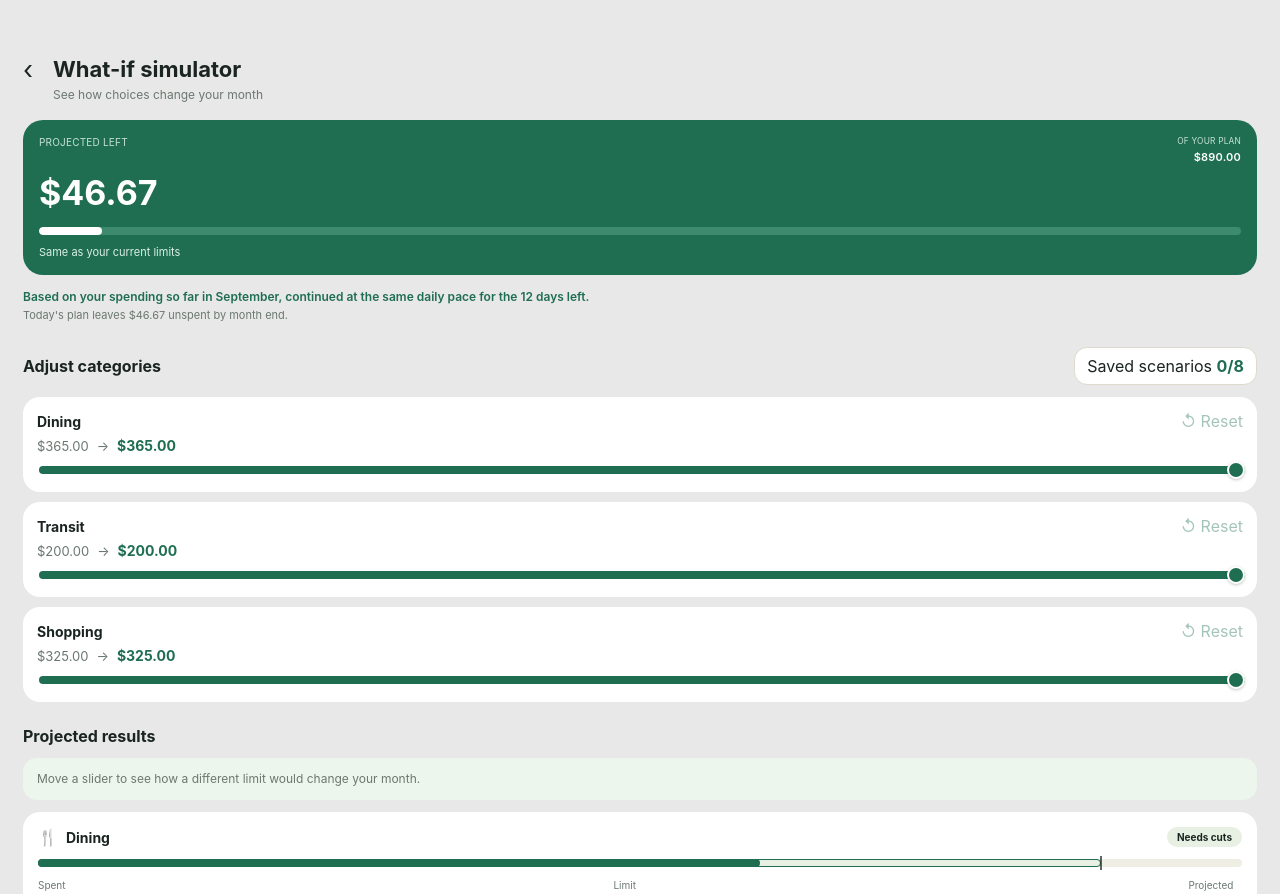
Scenario: What-if simulator › saves, compares and deletes scenarios on the account
The width and height of the screenshot is (1280, 894).
Set the slider named "Dining scenario limit" to "30000" at point(1022, 470), box left=39, top=466, right=1245, bottom=474
(page scrolled)
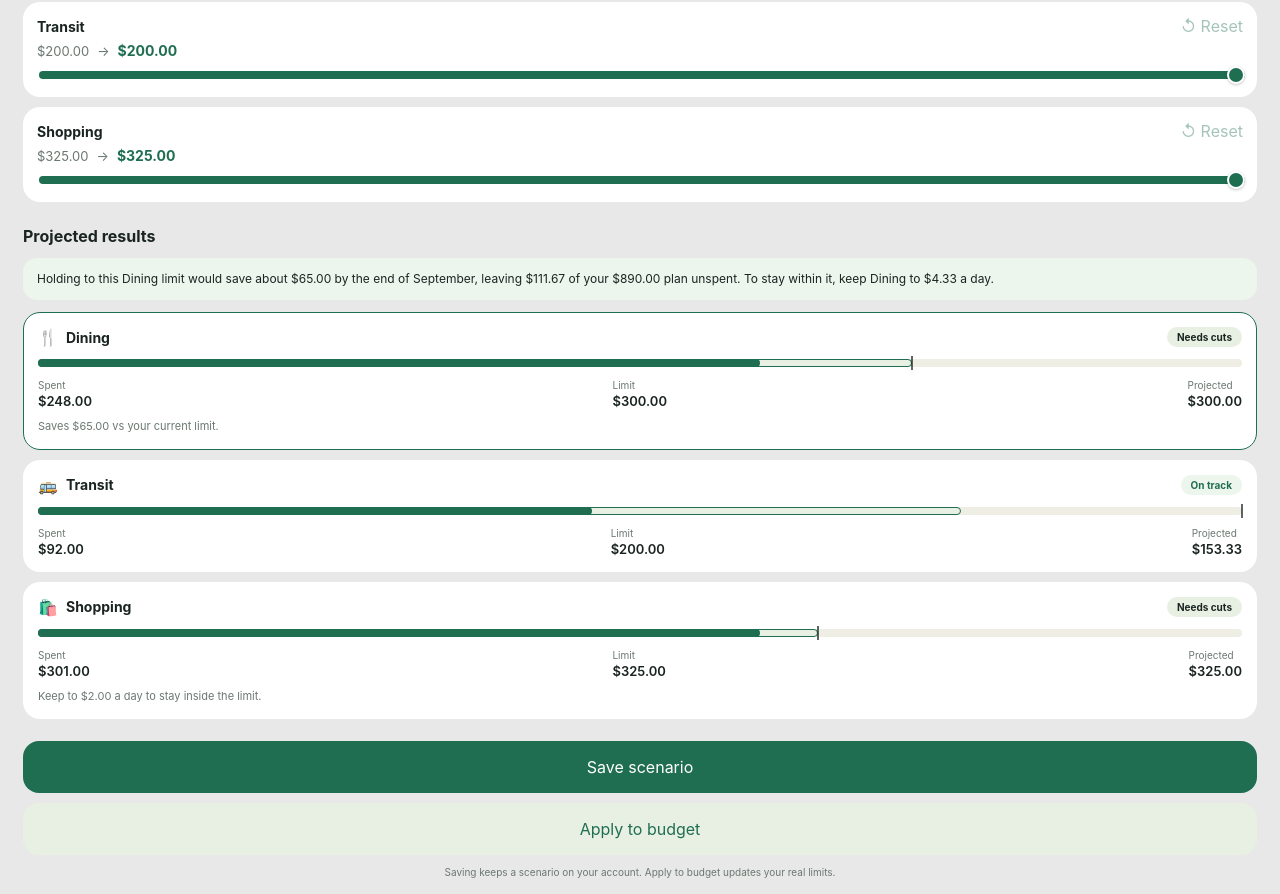
Click the button "Save scenario".
click(640, 767)  # box left=23, top=741, right=1257, bottom=793
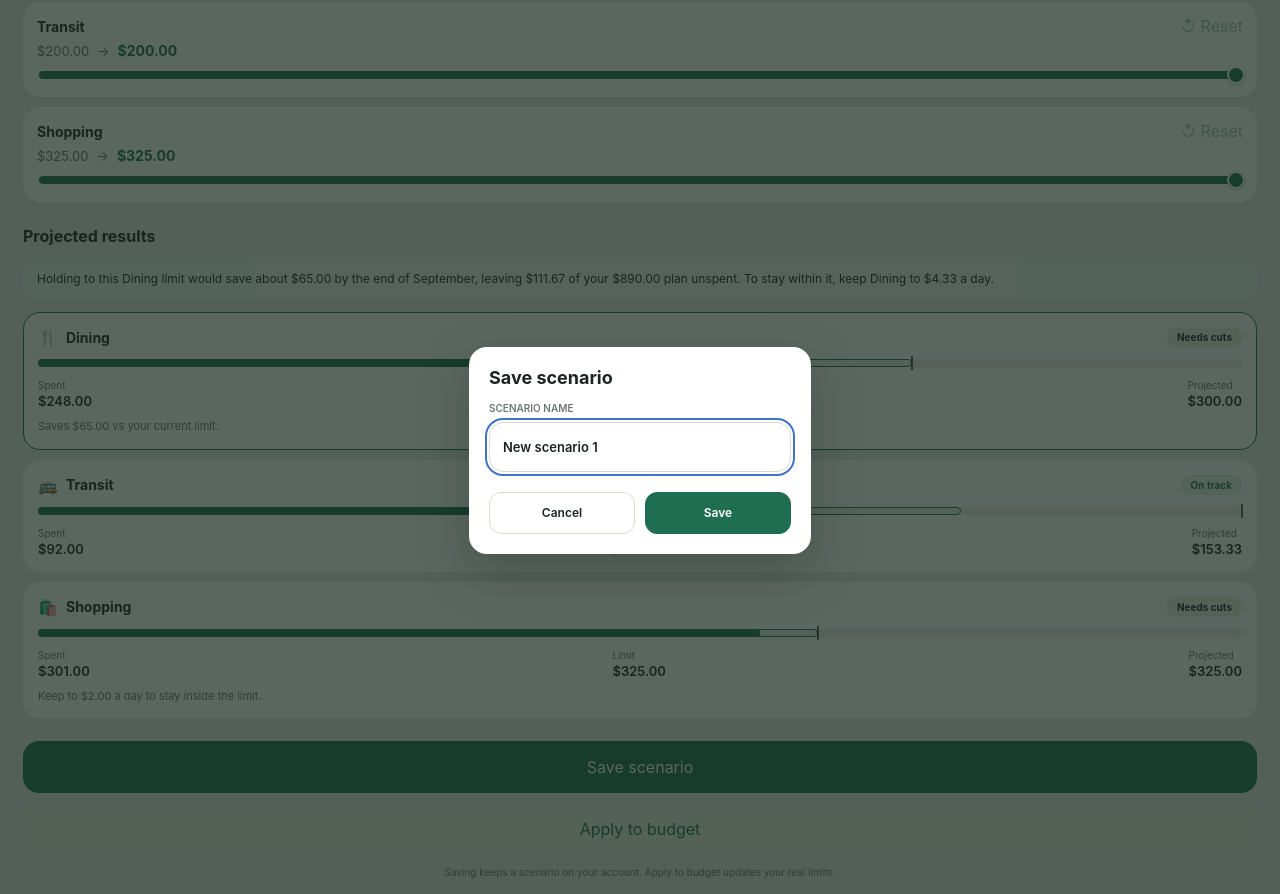
Replace the text in the field labelled "SCENARIO NAME" with "Cut dining" at point(640, 446), box left=489, top=422, right=791, bottom=472
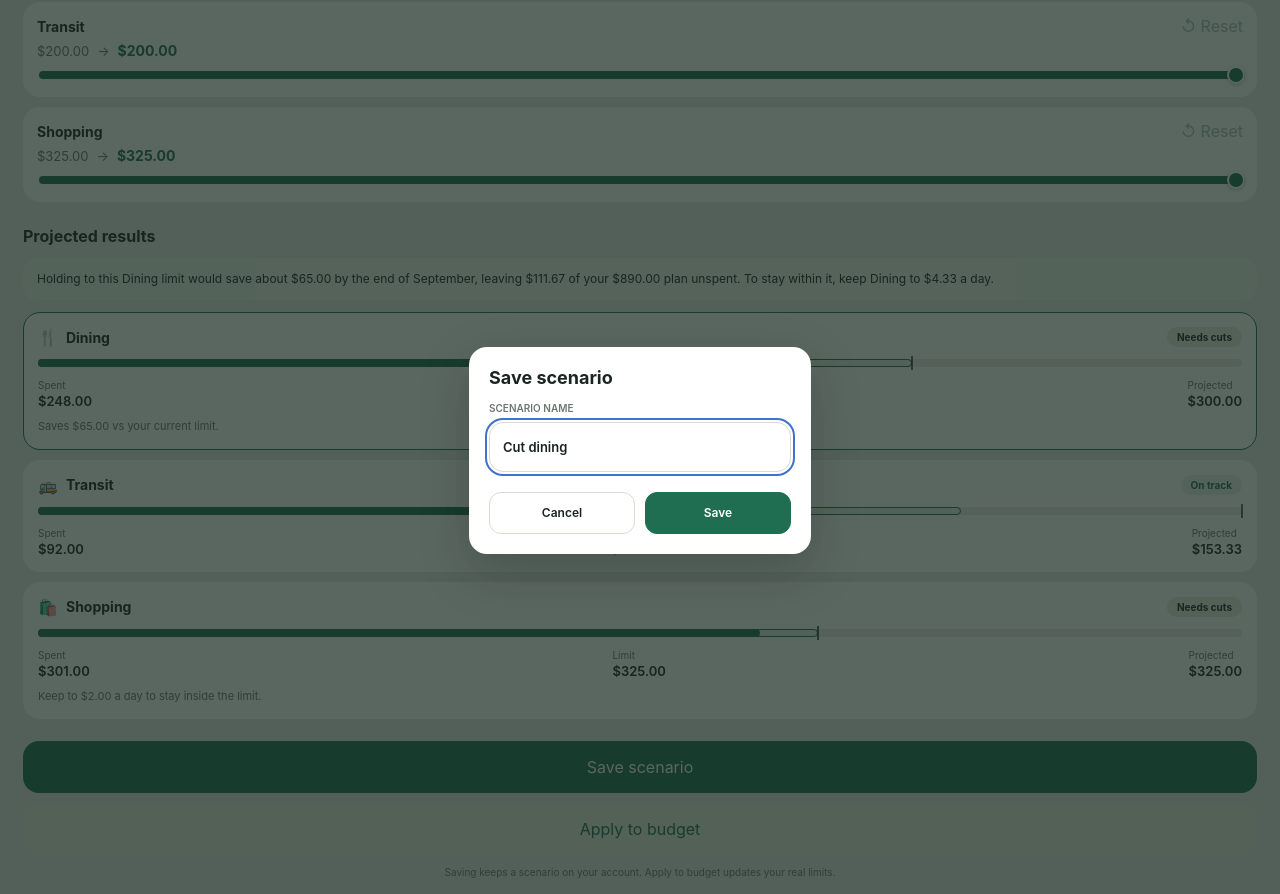
Click the button "Save".
click(718, 512)  # box left=645, top=492, right=791, bottom=534
(page scrolled)
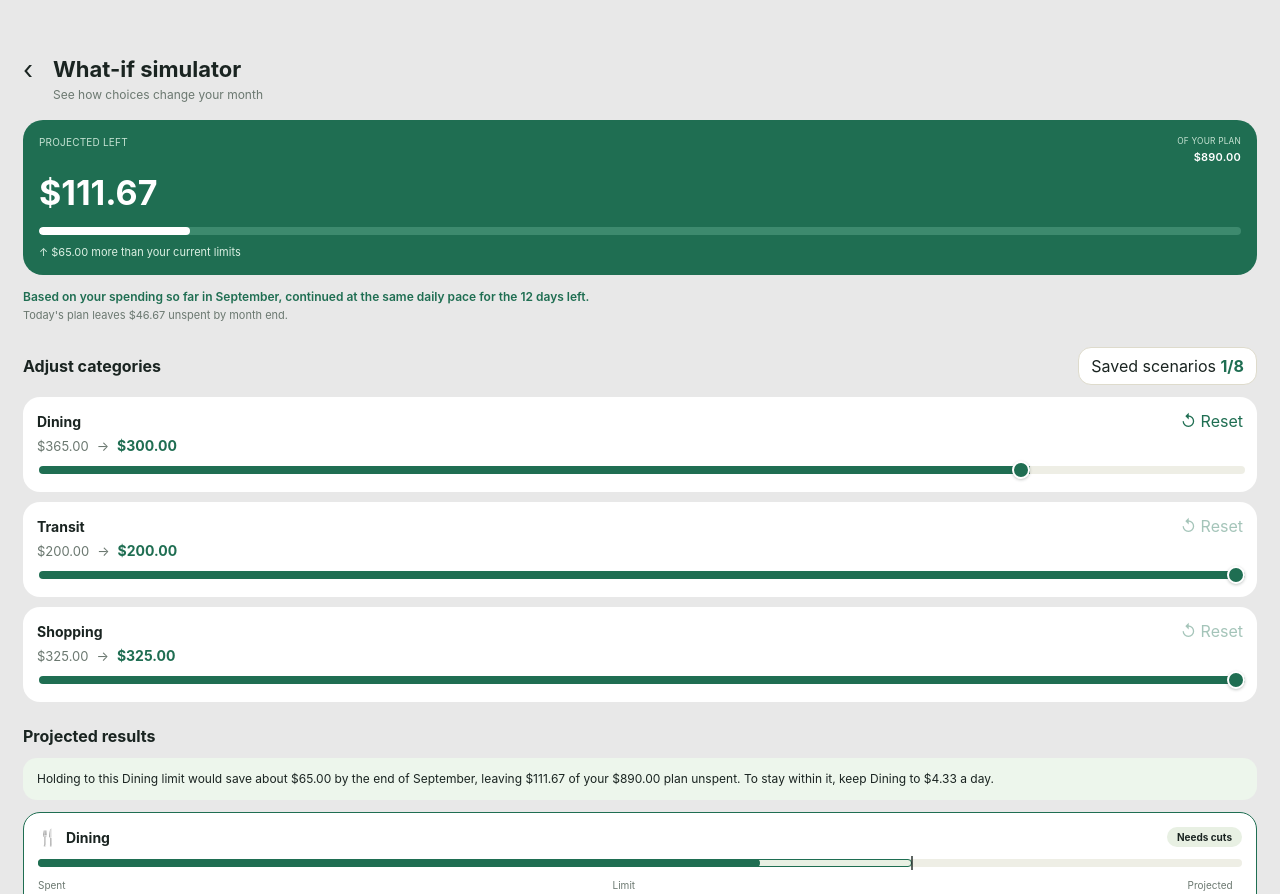
Click the button "Saved scenarios 1/8".
click(1168, 366)  # box left=1078, top=347, right=1257, bottom=385
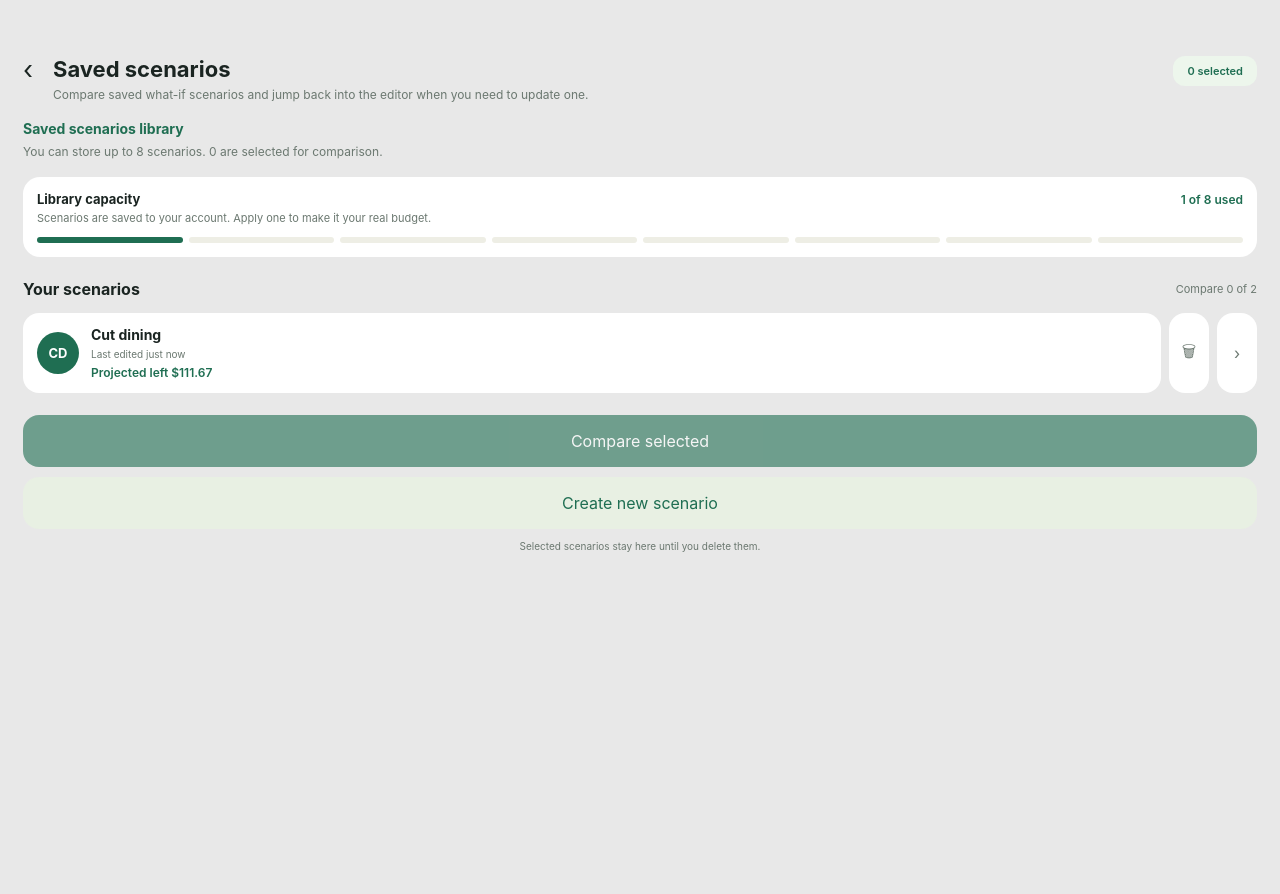
Expected: the text "Projected left $111.67" is shown, left=91, top=365, right=212, bottom=380
Click the button named "Delete Cut dining".
click(1189, 353)  # box left=1169, top=313, right=1209, bottom=393
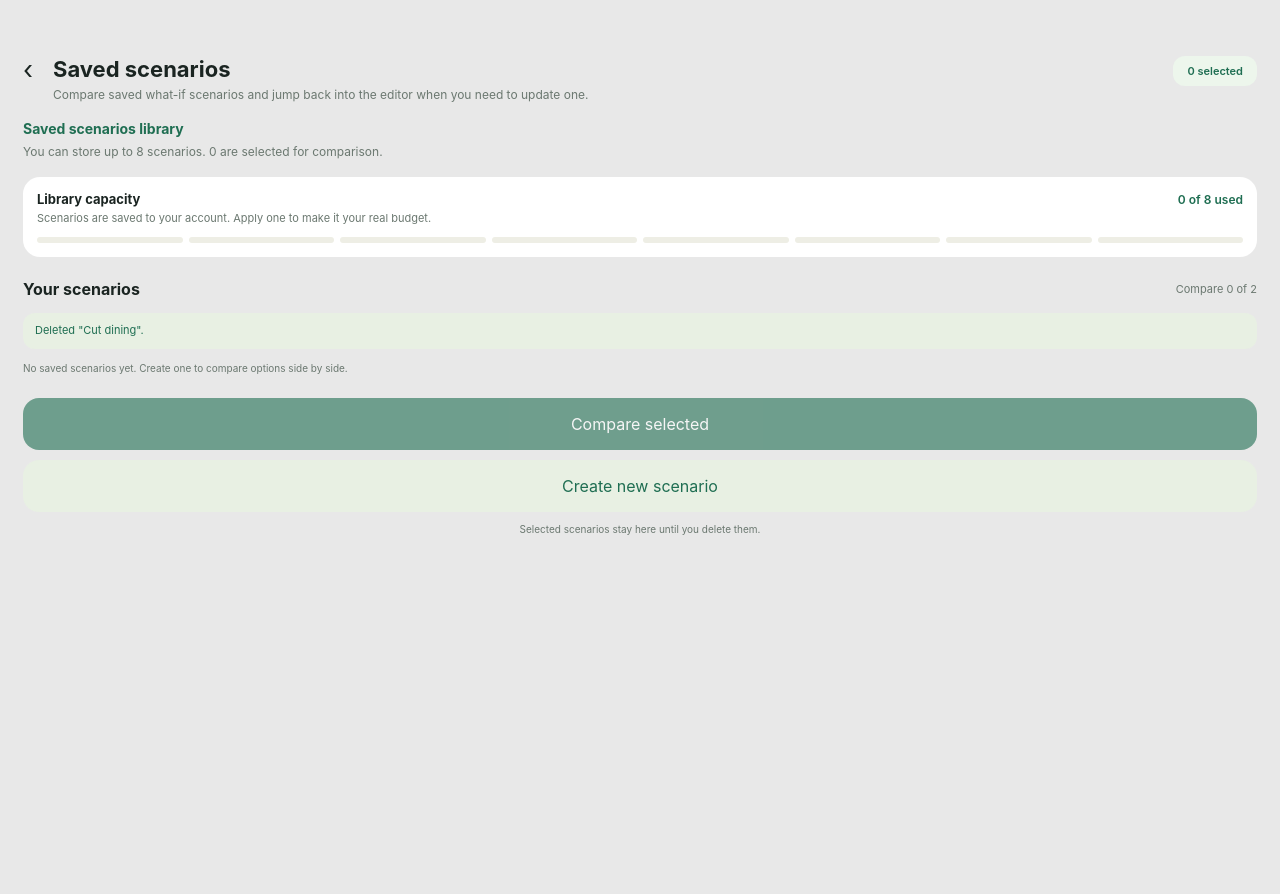
Expected: the text "No saved scenarios yet. Create one to compare options side by side." is shown, left=23, top=362, right=348, bottom=374
